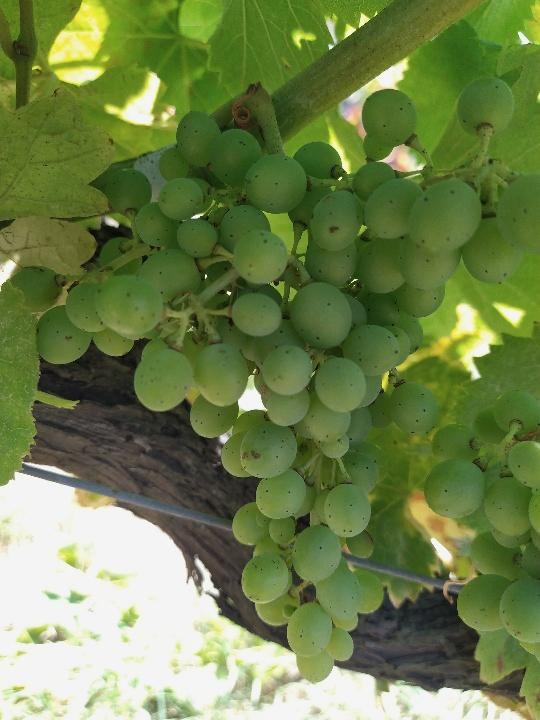grape: (10, 78, 533, 687)
